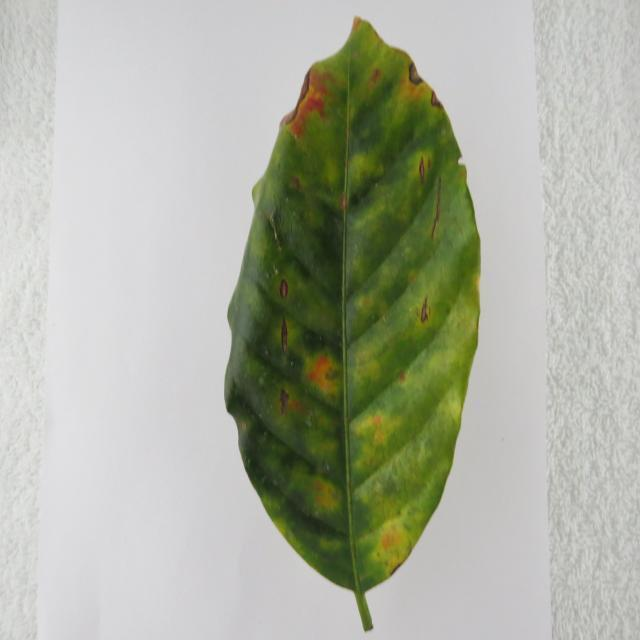DeficienciaNutricional-Fosforo: (225, 18, 480, 630)
